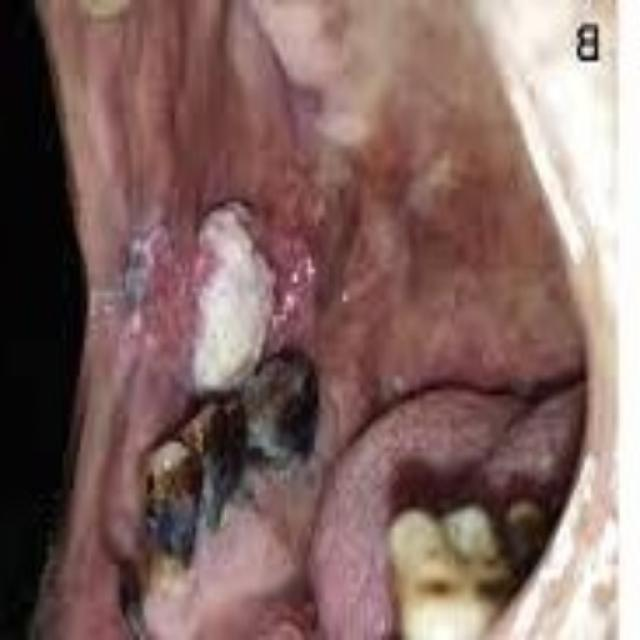cancer-detection: (108, 154, 356, 409)
processing_area: (33, 0, 583, 639)
